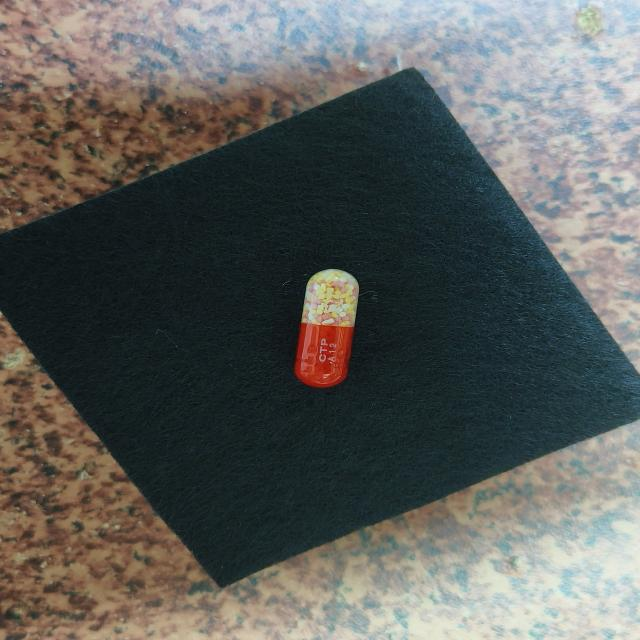Intact Capsule: (294, 269, 359, 388)
